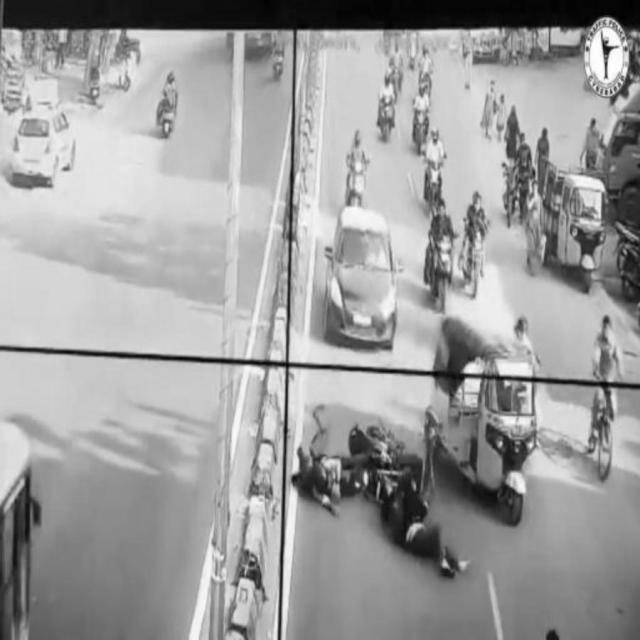accident: (297, 415, 471, 582)
vehicle: (440, 309, 534, 523), (327, 202, 400, 346), (542, 155, 606, 285), (7, 110, 77, 188), (428, 198, 455, 318), (463, 189, 487, 300), (345, 126, 373, 212), (425, 128, 451, 211), (154, 70, 182, 140), (377, 72, 395, 146), (413, 77, 429, 155)
